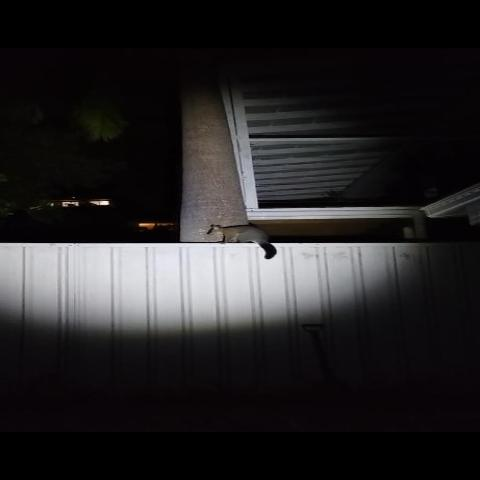small_animal: (203, 221, 279, 259)
